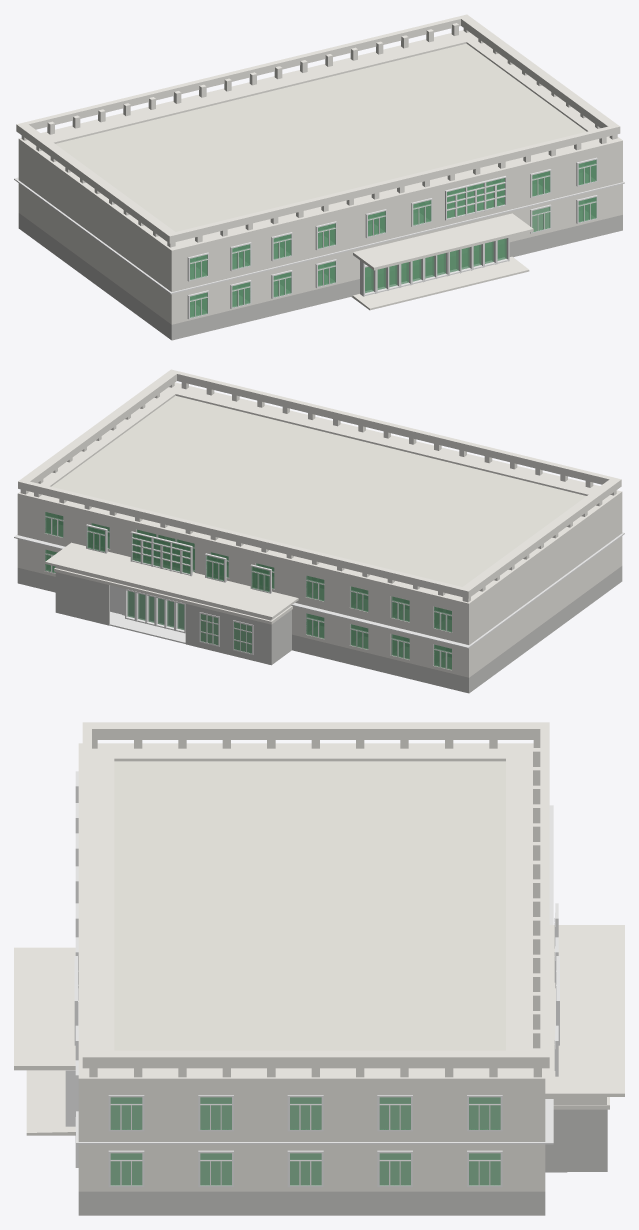
File: bangongloubui.fbx
3 renders of one model, top to bottom at view 1: azimuth 30°, elevation 25°; view 2: azimuth 150°, elevation 25°; view 3: azimuth 270°, elevation 25°, orthographic. The views are drawn at different scales.
Visible parts, largest first — view 1: 物件_67, 物件_135, 立方体, 物件_108, 物件_40, 物件_39, 物件_109, 立方体.003, 物件_55, 物件_8, 物件_24, 立方体.004; view 2: 物件_67, 物件_135, 立方体, 物件_248, 物件_251, 物件_108, 物件_109, 物件_269, 物件_245, 物件_276, 物件_250, 立方体.004 (+5 smaller); view 3: 物件_67, 物件_135, 立方体, 物件_251, 物件_108, 物件_40, 物件_248, 物件_39, 物件_109, 立方体.003, 物件_312, 物件_337 (+10 smaller).
Part boxes in pixels (x1,y1,x2,y2): 物件_67: (56,43,586,231); 物件_135: (18,30,622,324); 立方体: (16,14,620,243); 物件_108: (18,213,622,340); 物件_40: (353,213,533,270); 物件_39: (351,256,529,310); 物件_109: (14,177,624,294); 立方体.003: (47,23,458,134); 物件_55: (447,178,504,218); 物件_8: (365,256,434,293); 物件_24: (437,238,506,275); 立方体.004: (195,137,606,242); 物件_67: (51,395,586,586); 物件_135: (17,382,622,677); 立方体: (18,369,621,598); 物件_248: (55,572,291,665); 物件_251: (45,542,298,619); 物件_108: (17,566,622,693); 物件_109: (14,532,624,648); 物件_269: (132,533,190,573); 物件_245: (127,591,184,629); 物件_276: (54,568,292,624); 物件_250: (109,611,185,643); 立方体.004: (181,382,593,487); 物件_67: (114,761,505,1050); 物件_135: (78,743,545,1191); 立方体: (82,722,549,1068); 物件_251: (545,925,624,1096); 物件_108: (78,1191,545,1215); 物件_40: (14,947,75,1070); 物件_248: (545,1109,607,1171); 物件_39: (26,1070,75,1135); 物件_109: (76,805,553,1144); 立方体.003: (533,748,540,1050); 物件_312: (110,1097,142,1129); 物件_337: (110,1153,142,1185).
Bounding box in the file's own units: 47.58 × 36.39 × 10.5.
